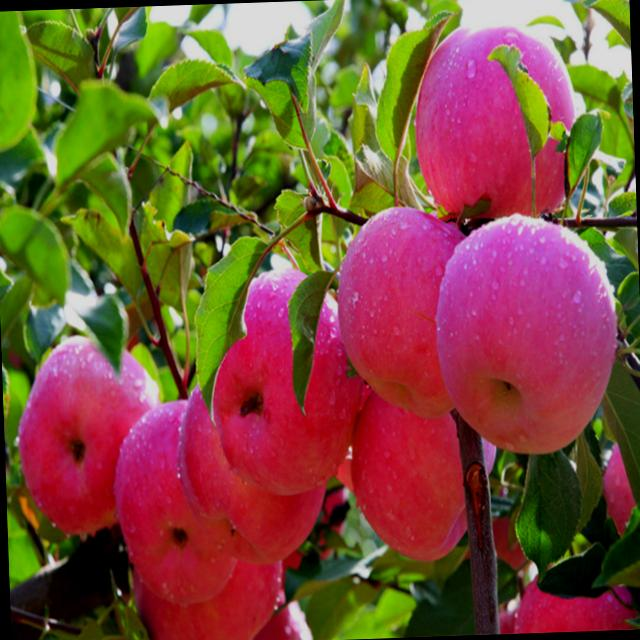apple: (180, 252, 380, 498), (435, 221, 618, 478), (331, 182, 498, 436), (399, 16, 582, 238), (12, 322, 165, 556), (121, 453, 297, 640), (344, 366, 497, 577), (104, 396, 252, 611)
